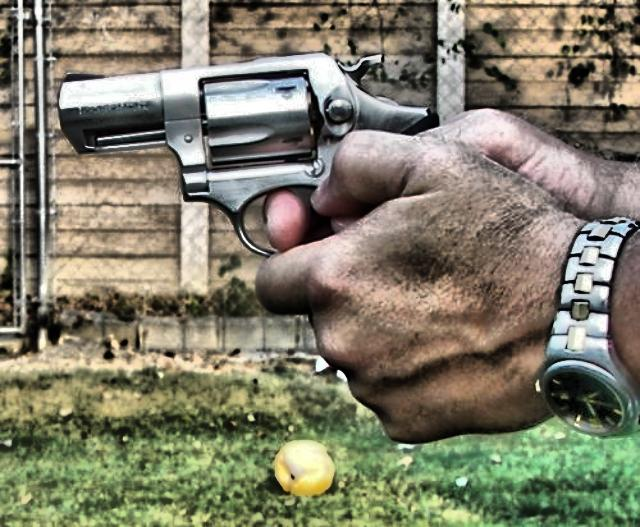pistol: (55, 41, 439, 257)
